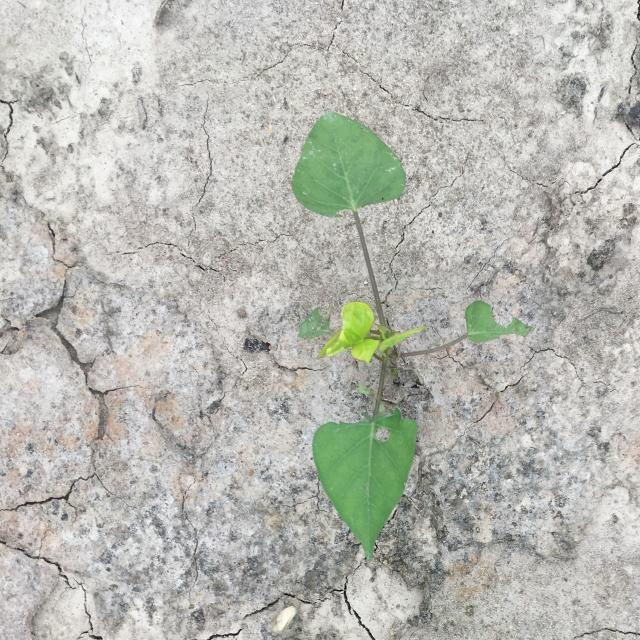MorningGlory: (291, 109, 535, 561)
